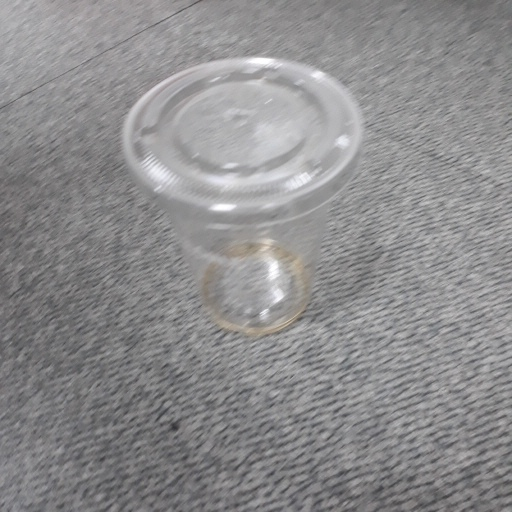Plastic_2: (119, 55, 367, 334)
